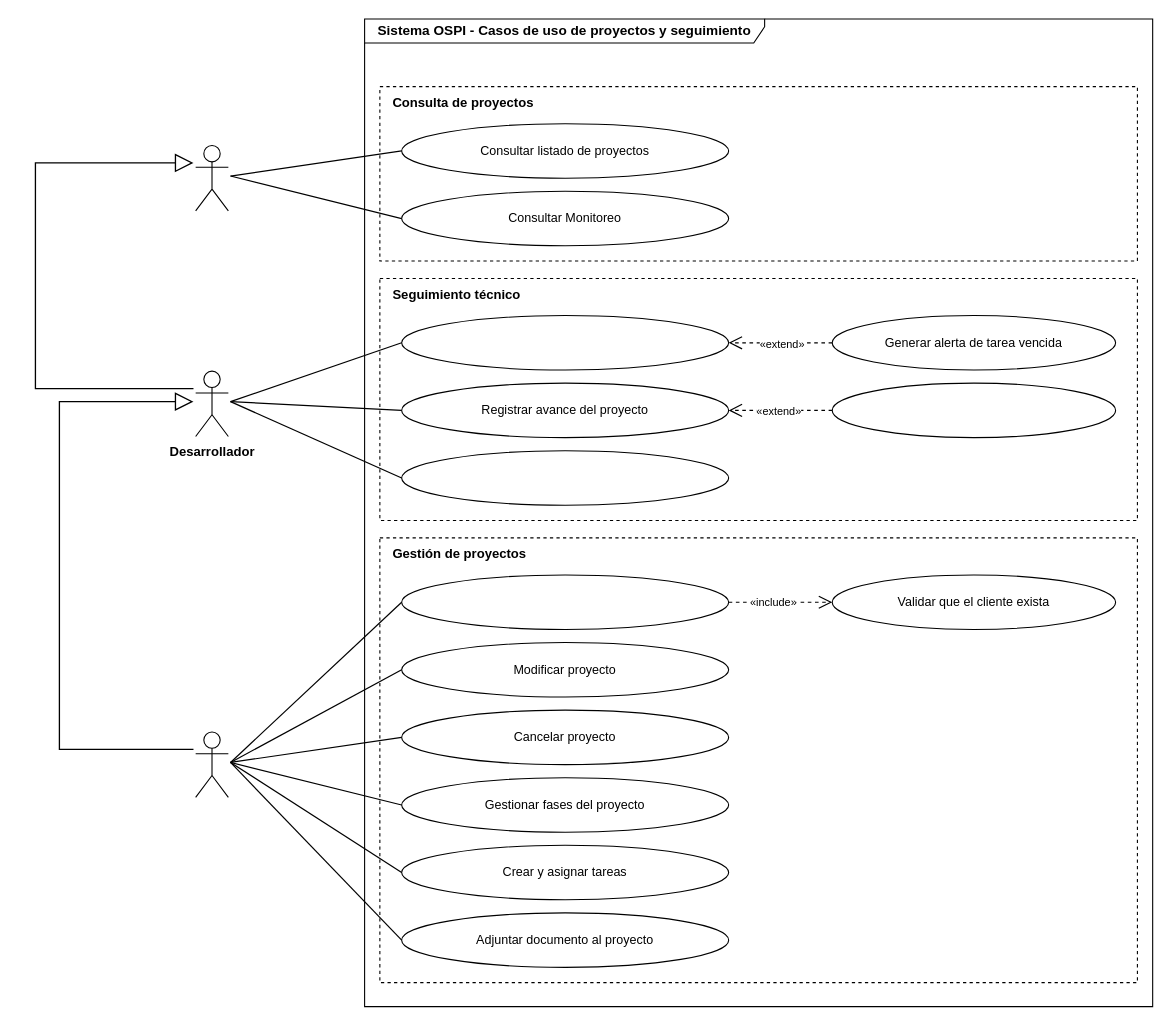
The diagram is 1173 pixels wide and 1026 high, and some of its shapes have lost their labels. The shapes that lost their labels are listed below. From the top down, each one's centre as x and y in pixels, then its label:
At (x=211, y=177): "Usuario del sistema (rol general)".
At (x=565, y=342): "Actualizar estado de tareas y fases".
At (x=973, y=410): "Generar alerta de avance bajo (menos de 40 %)".
At (x=565, y=477): "Consultar documentos del proyecto".
At (x=565, y=601): "Registrar proyecto".
At (x=211, y=764): "Administrador".
